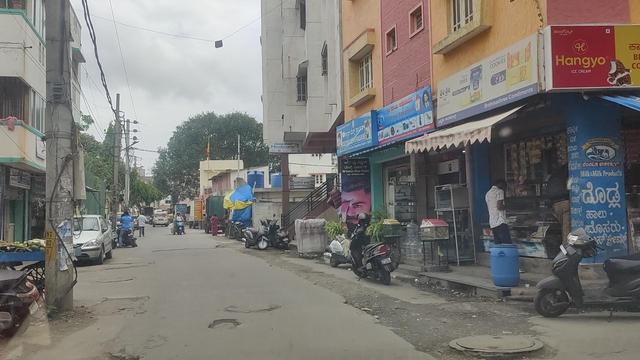RoadDamages: (446, 322, 544, 356), (91, 335, 180, 360), (342, 292, 380, 322), (95, 292, 144, 315), (205, 313, 242, 331), (310, 270, 334, 292), (272, 256, 297, 270), (155, 246, 224, 251), (98, 273, 132, 283)
